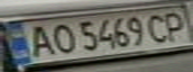4: (93, 16, 115, 50)
5: (75, 18, 100, 52)
6: (112, 15, 133, 48)
9: (127, 14, 148, 47)
A: (21, 22, 57, 58)
C: (142, 11, 175, 45)
O: (45, 21, 78, 55)
P: (157, 9, 190, 43)
